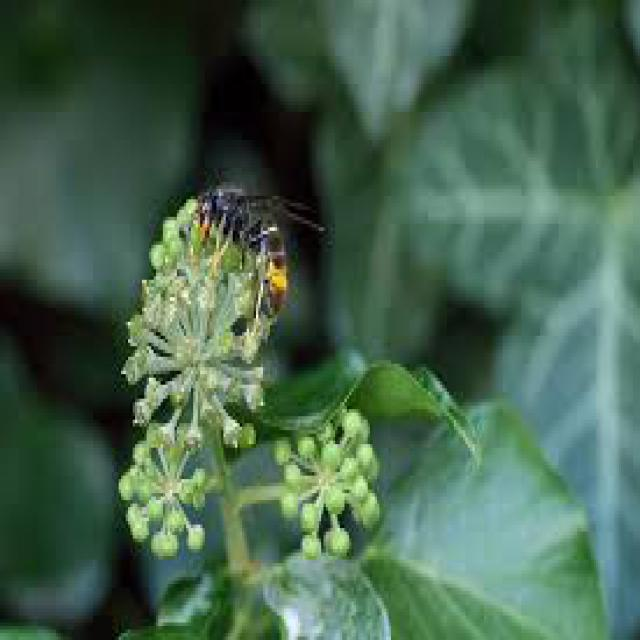Vespa Velutina: (193, 166, 333, 331)
